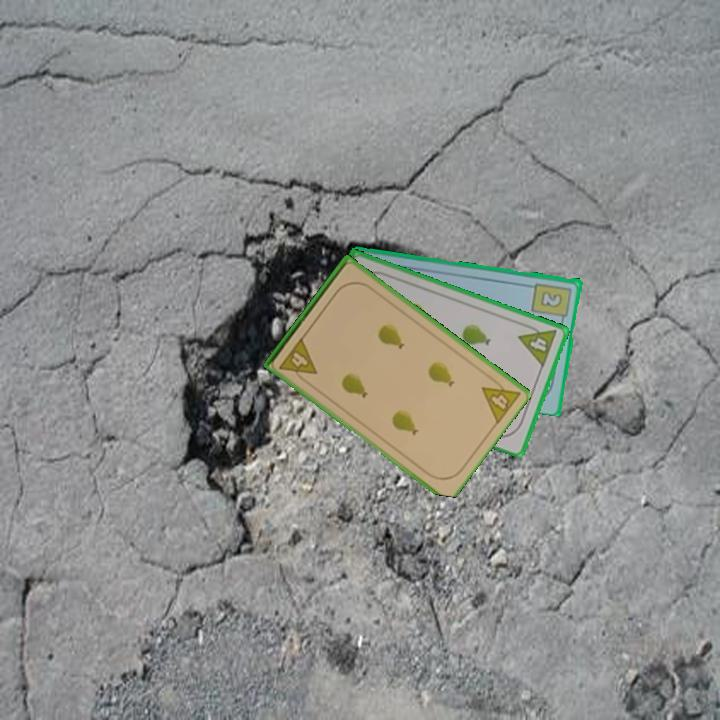2b: (529, 279, 575, 325)
4p: (478, 371, 523, 427), (515, 319, 560, 370), (276, 334, 320, 386)
